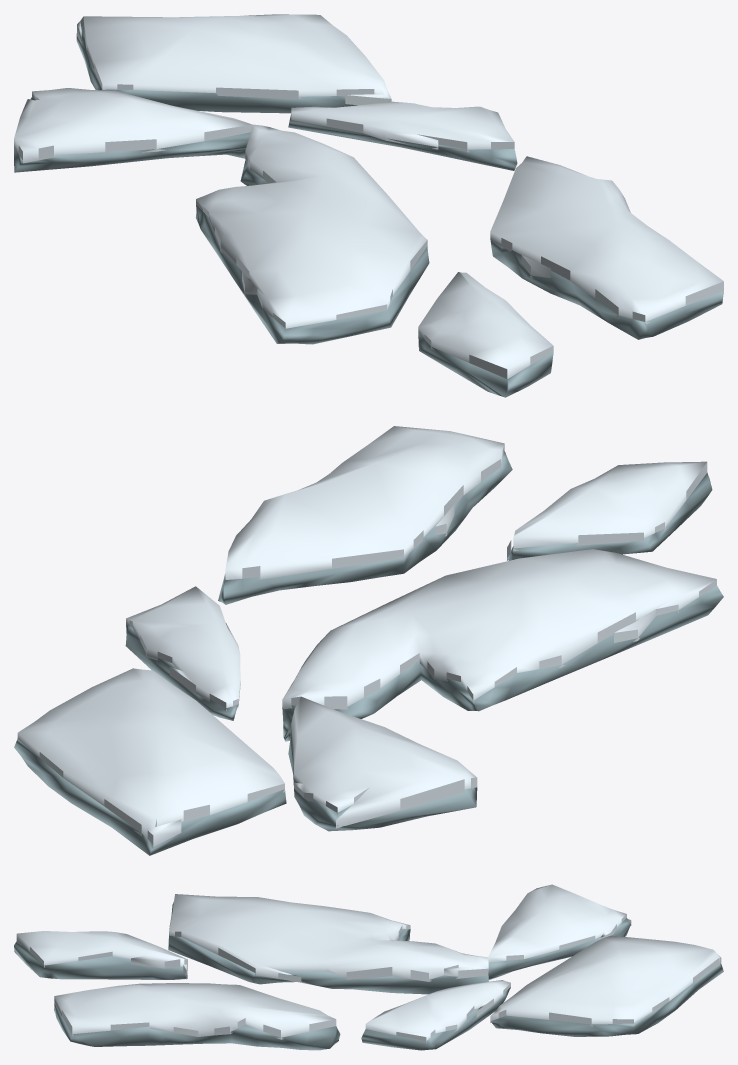
The model's file is SecondRoom_IceRubble.fbx.
3 renders of one model, top to bottom at view 1: azimuth 30°, elevation 25°; view 2: azimuth 150°, elevation 25°; view 3: azimuth 270°, elevation 25°, orthographic. The views are drawn at different scales.
Parts seen in each view (by area): view 1: SecondRoom_IceRubble_LOD0; view 2: SecondRoom_IceRubble_LOD0; view 3: SecondRoom_IceRubble_LOD0.
Part boxes in pixels (x1=…): SecondRoom_IceRubble_LOD0: x1=14, y1=14, x2=723, y2=397; SecondRoom_IceRubble_LOD0: x1=14, y1=426, x2=723, y2=855; SecondRoom_IceRubble_LOD0: x1=14, y1=884, x2=723, y2=1050.
Size of what is drawn, in the model's own units: 2.94 by 0.5007 by 6.
